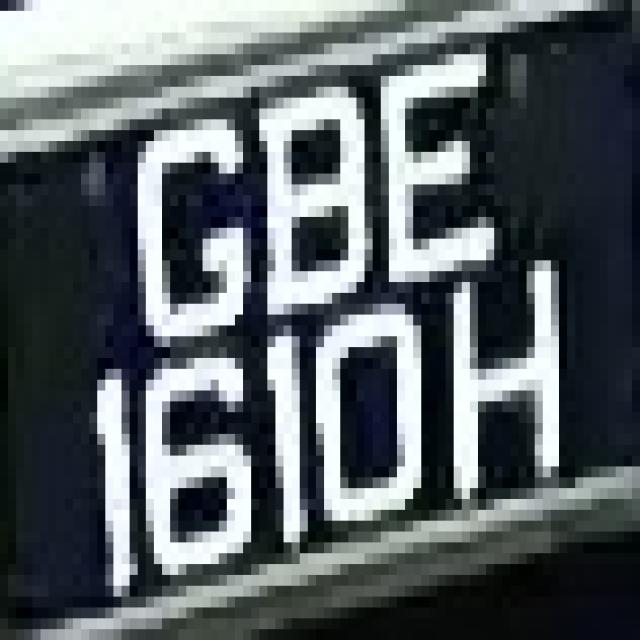0: (292, 271, 438, 532)
1: (259, 293, 332, 564), (81, 358, 146, 618)
6: (130, 315, 276, 618)
B: (235, 65, 381, 326)
E: (372, 32, 518, 304)
G: (122, 97, 259, 390)
H: (422, 238, 584, 510)
